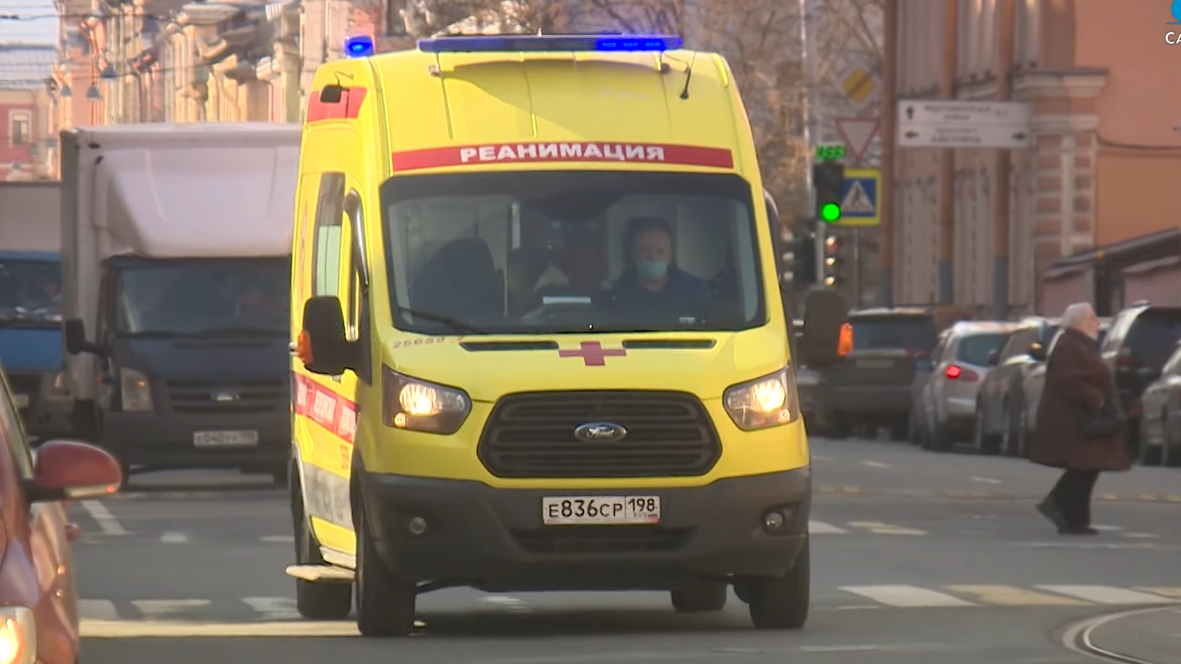intensive care unit: (287, 34, 816, 641)
non emergency car: (56, 124, 288, 491), (825, 294, 937, 439), (1098, 302, 1177, 467), (977, 313, 1062, 455), (938, 315, 1005, 448)
